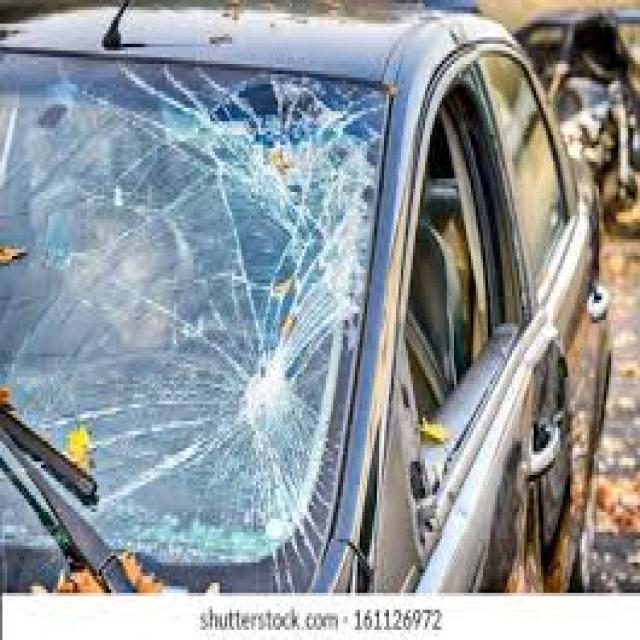damaged-windscreen: (0, 40, 396, 576)
